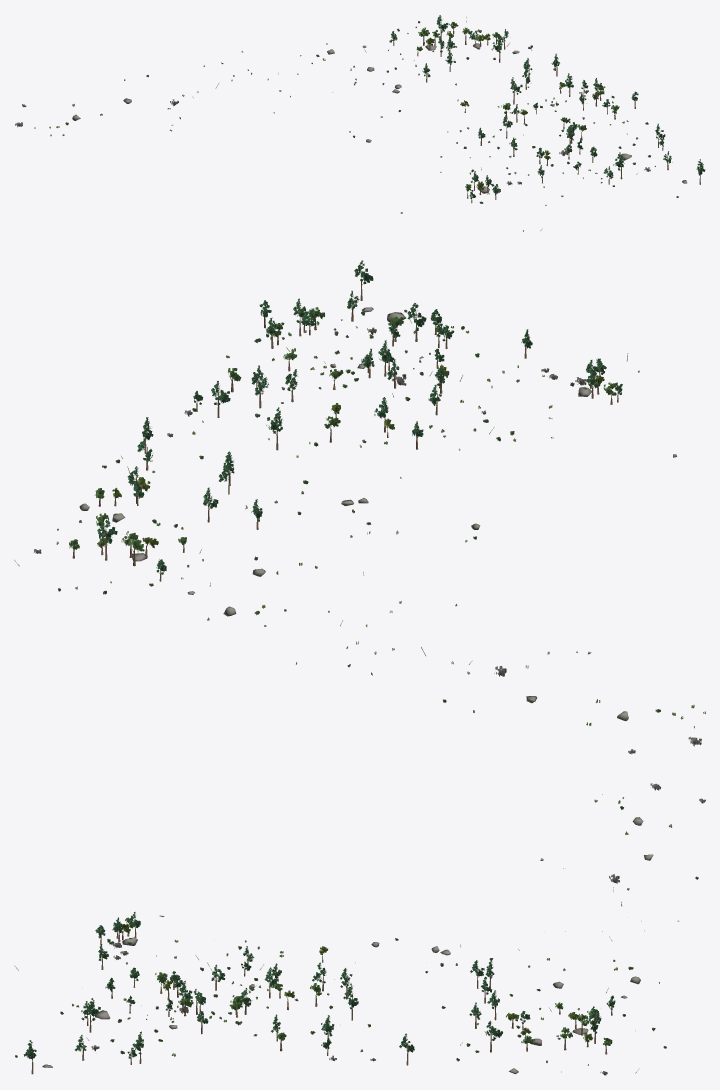
Rendered from arch_land_scatter_c19_22.glb.
3 renders of one model, top to bottom at view 1: azimuth 30°, elevation 25°; view 2: azimuth 150°, elevation 25°; view 3: azimuth 270°, elevation 25°, orthographic. The views are drawn at different scales.
Visible parts, largest first — view 1: arch_land_scatter_c19_22; view 2: arch_land_scatter_c19_22; view 3: arch_land_scatter_c19_22.
Part boxes in pixels (left/top/right/bottom): arch_land_scatter_c19_22: left=15, top=15, right=705, bottom=231; arch_land_scatter_c19_22: left=14, top=260, right=705, bottom=754; arch_land_scatter_c19_22: left=14, top=783, right=705, bottom=1075.
Bounding box in the file's own units: 257 × 32.07 × 253.
